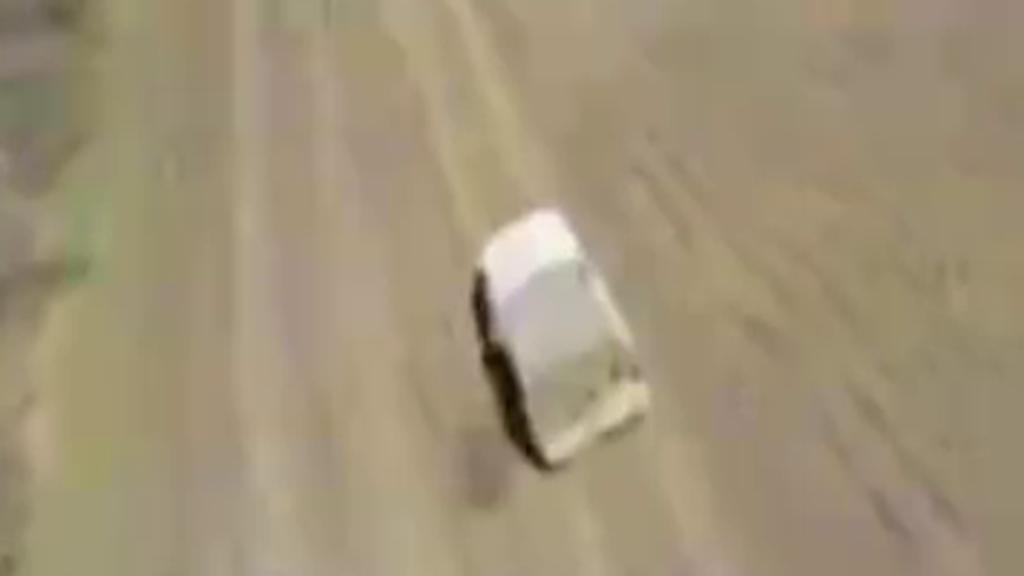CAR: (468, 194, 654, 470)
